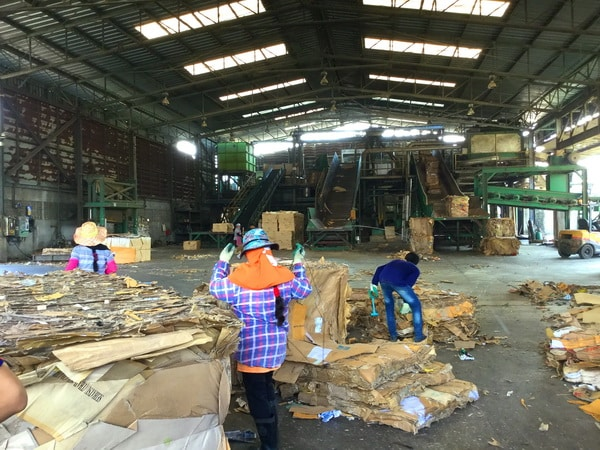paper: (49, 321, 228, 372)
